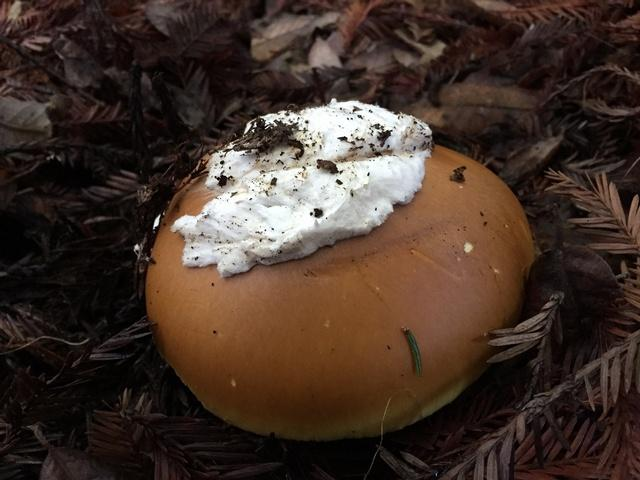Edible Mushroom: (142, 97, 535, 441)
